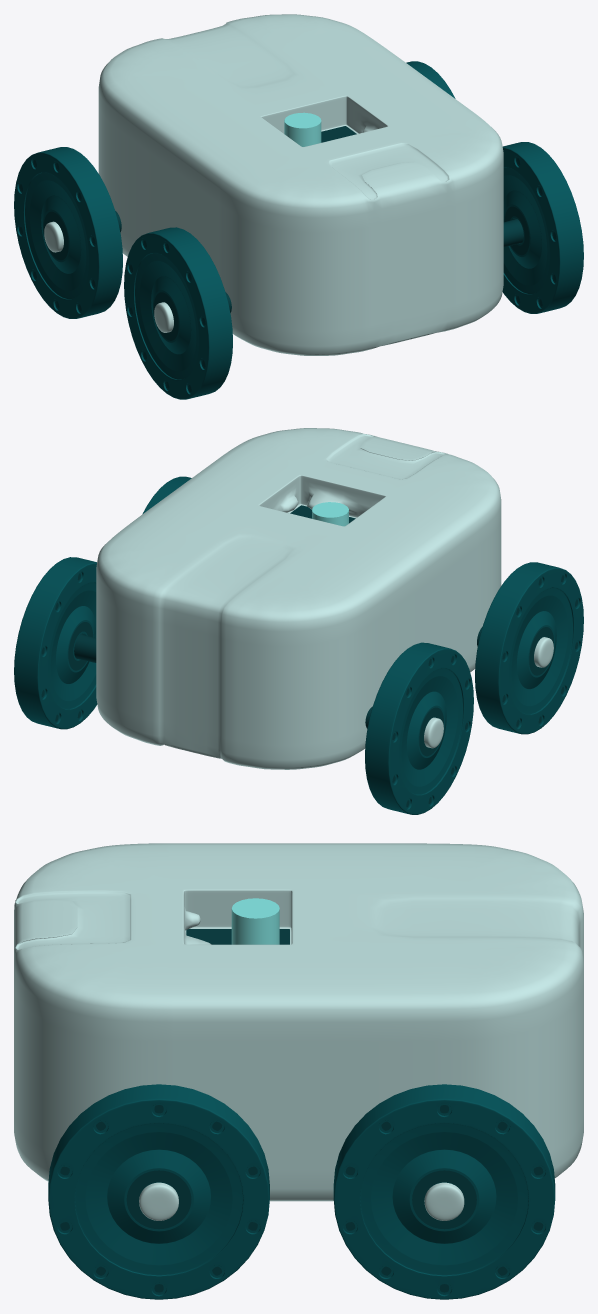
3 views of the same model, one above another, from view 1: azimuth 30°, elevation 25°; view 2: azimuth 150°, elevation 25°; view 3: azimuth 270°, elevation 25° (orthographic). The views are drawn at different scales.
Parts seen in each view (by area): view 1: pCylinder13; view 2: pCylinder13; view 3: pCylinder13.
Part boxes in pixels (x1,y1,x2,y2): pCylinder13: (14,14,583,399); pCylinder13: (14,428,583,814); pCylinder13: (14,843,583,1299).
Size of the model in its own units: 12.39 by 6.25 by 12.18.
